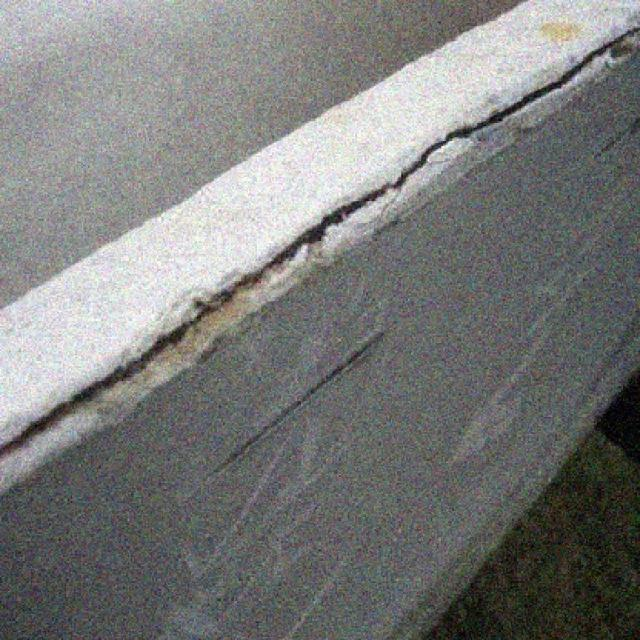crack: (199, 181, 407, 314), (1, 316, 197, 450), (406, 99, 532, 182), (535, 28, 640, 97)
